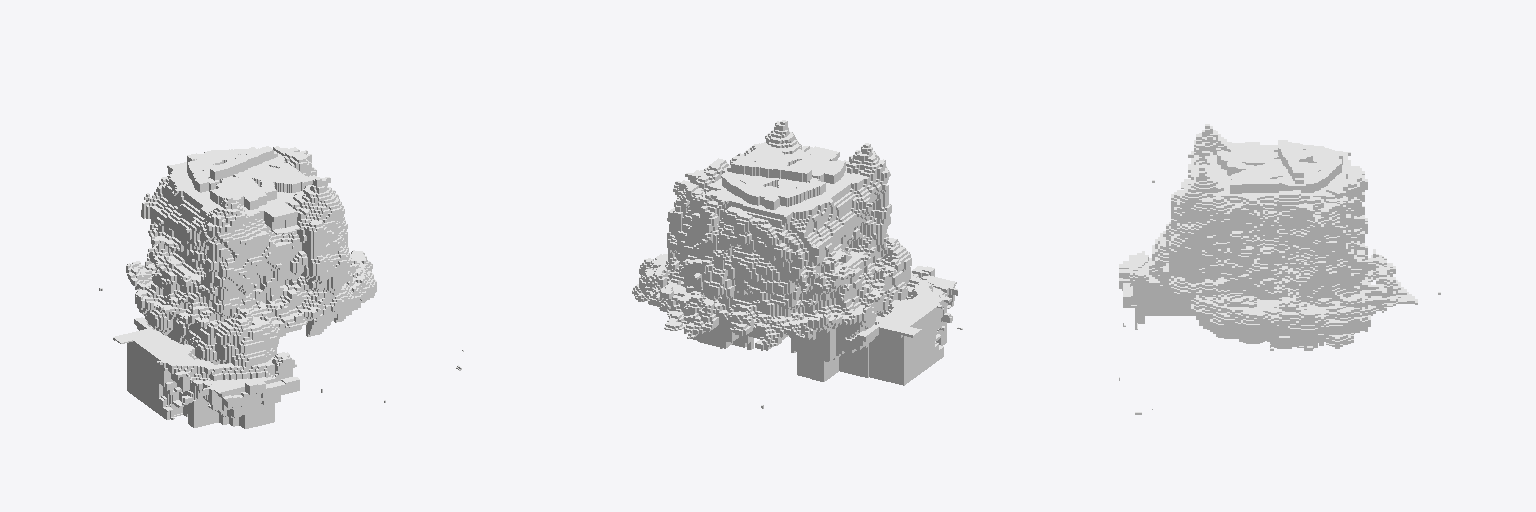
The model's file is Lava_stuff-8.obj.
The picture shows the model from 3 angles: view 1: azimuth 30°, elevation 25°; view 2: azimuth 150°, elevation 25°; view 3: azimuth 270°, elevation 25°; orthographic projection.
Visible parts, largest first — view 1: object 1; view 2: object 1; view 3: object 1.
Boxes of the visible parts, box(x1,y1,x2,y2) form: object 1: box(99, 146, 463, 428); object 1: box(632, 120, 962, 408); object 1: box(1119, 124, 1440, 414).
Size of the model in its own units: 24.1 by 16 by 23.3.